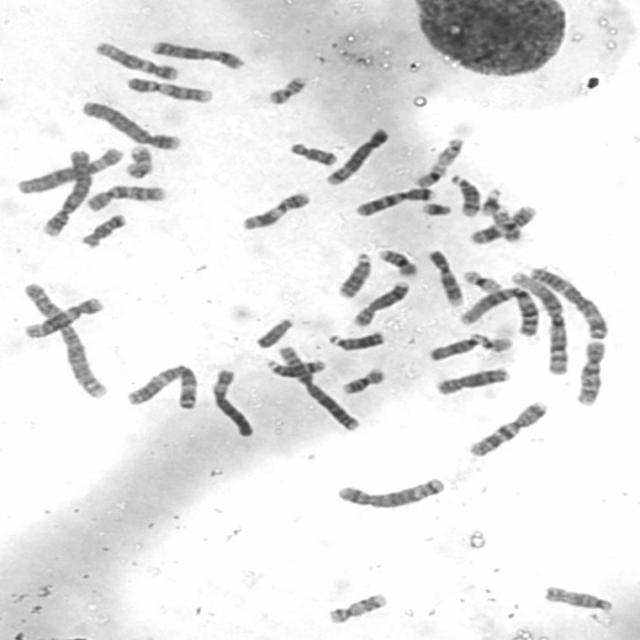A1: (509, 270, 573, 375), (459, 286, 540, 338)
A2: (19, 281, 110, 400), (276, 346, 364, 433)
A3: (530, 265, 610, 340), (124, 363, 200, 411)
B4: (80, 100, 182, 152), (38, 150, 92, 238)
B5: (322, 125, 390, 188), (334, 478, 446, 511)
C10: (573, 340, 609, 408), (86, 185, 167, 212)
C11: (240, 190, 310, 230), (470, 204, 537, 245)
C12: (21, 297, 105, 338), (95, 42, 180, 80)
C6: (16, 147, 123, 195), (211, 369, 257, 439)
C7: (466, 402, 550, 460), (353, 188, 437, 218)
C8: (352, 280, 412, 326), (437, 368, 512, 397)
C9: (126, 77, 215, 104), (425, 248, 464, 307)
D13: (334, 250, 372, 302), (326, 332, 388, 354)
D14: (450, 174, 482, 218), (266, 359, 328, 379)
D15: (540, 585, 616, 616), (426, 332, 481, 364)
E16: (341, 366, 386, 398), (376, 246, 418, 278)
E17: (324, 594, 388, 626), (124, 143, 154, 180)
E18: (79, 214, 128, 249), (288, 142, 340, 168)
F19: (463, 269, 502, 293), (413, 163, 447, 189)
F20: (266, 75, 308, 106), (490, 209, 522, 242)
G21: (480, 186, 504, 216), (420, 201, 453, 217)
G22: (436, 136, 466, 166), (479, 334, 515, 352)
X: (150, 40, 249, 70)
Y: (256, 317, 295, 350)
